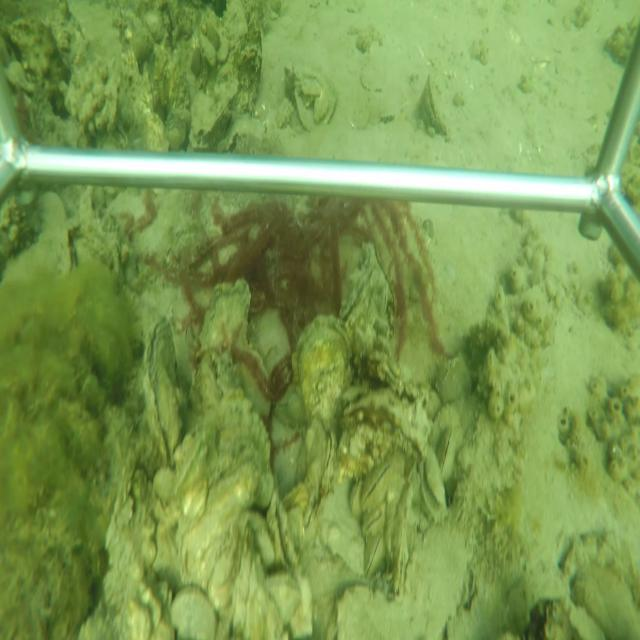Oyster-Closed: (339, 238, 397, 374), (142, 310, 185, 474), (189, 57, 241, 155), (393, 480, 416, 600), (420, 70, 448, 137), (360, 461, 396, 509), (362, 527, 386, 583), (435, 424, 458, 478)
Oyster-Indeterminate: (198, 279, 274, 429), (290, 308, 355, 453), (171, 583, 220, 640)
Oyster-Open: (418, 445, 451, 524)
